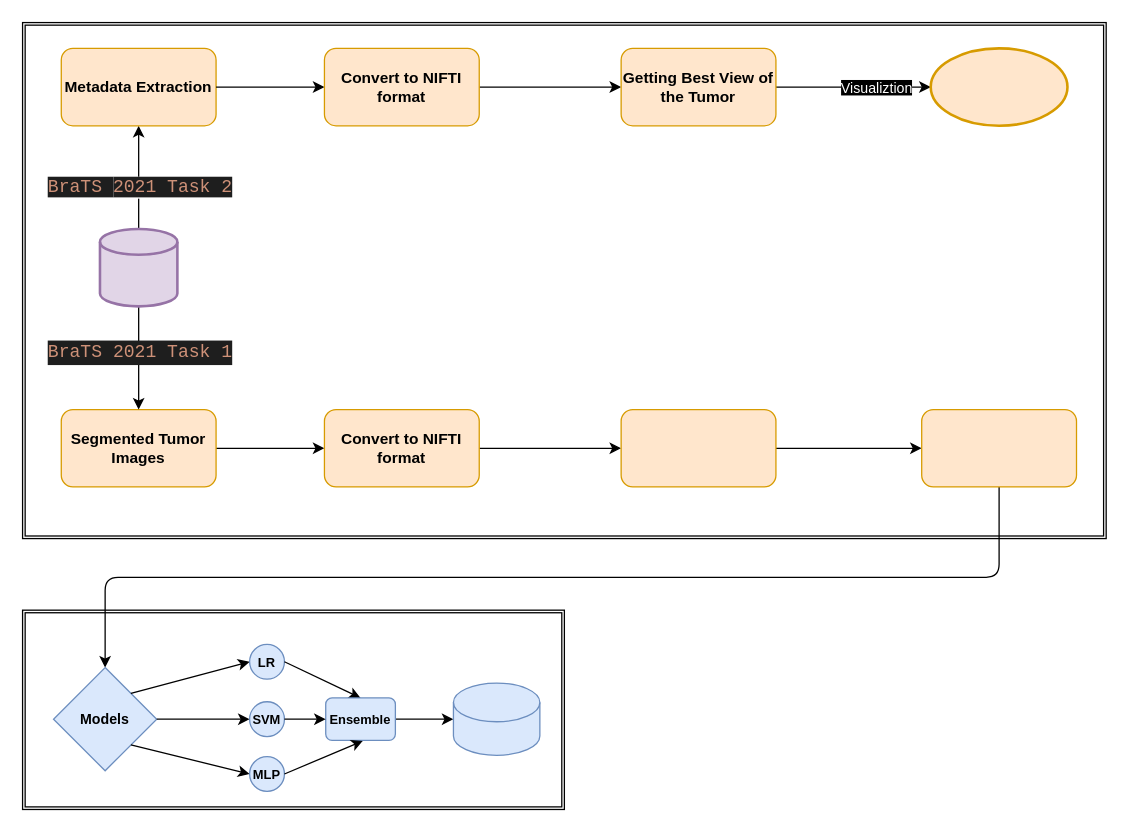
Image size: 1129x832. Some labels were removed from this diagram. Each missing label, with the centre of its shape:
"Data Preparation" goes at point 998,447.
"Feature Extraction with Pyradiomics" goes at point 698,447.
"Prediction" goes at point 496,718.
"Raw Data" goes at point 138,267.
"Sagittal, Coronal & Axial" goes at point 998,86.
